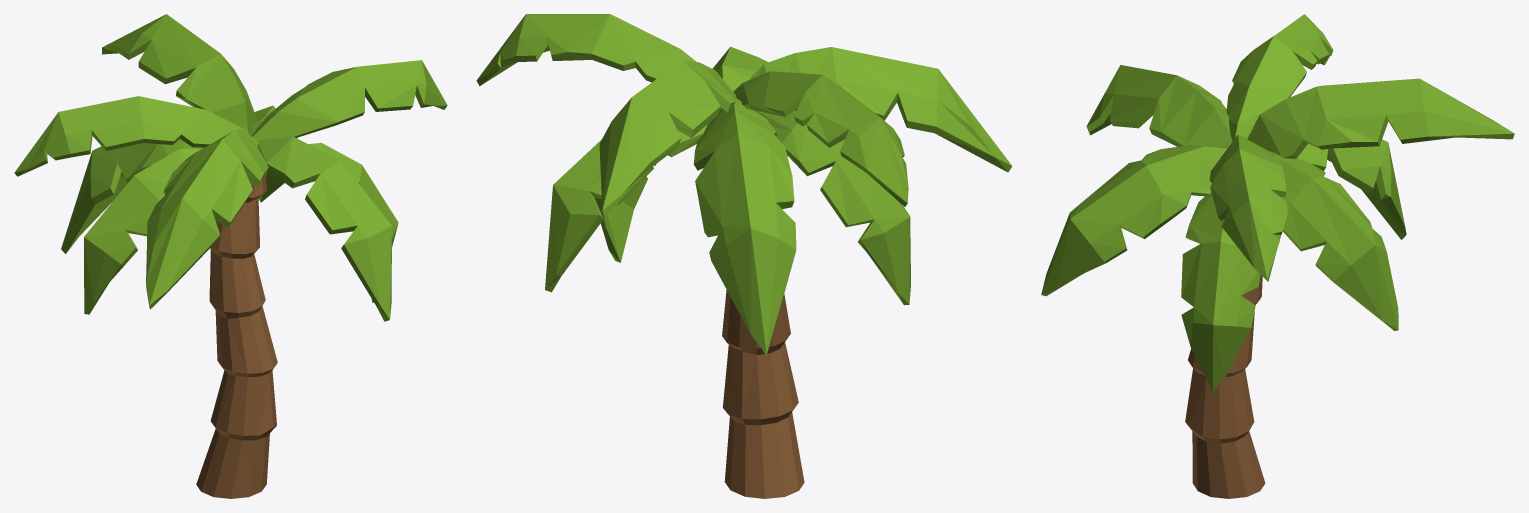
Rendered from palm.glb.
3 views of the same model, side by side, from view 1: azimuth 30°, elevation 25°; view 2: azimuth 150°, elevation 25°; view 3: azimuth 270°, elevation 25° (orthographic). The views are drawn at different scales.
Visible parts, largest first — view 1: Environment_PalmTree_3; view 2: Environment_PalmTree_3; view 3: Environment_PalmTree_3.
Part boxes in pixels (x1,y1,x2,y2): Environment_PalmTree_3: (14, 14, 447, 498); Environment_PalmTree_3: (476, 14, 1012, 498); Environment_PalmTree_3: (1041, 14, 1514, 498).
Size of the model in its own units: 2.86 by 2.68 by 2.75.
Materials: 1 (1 with a texture image).
